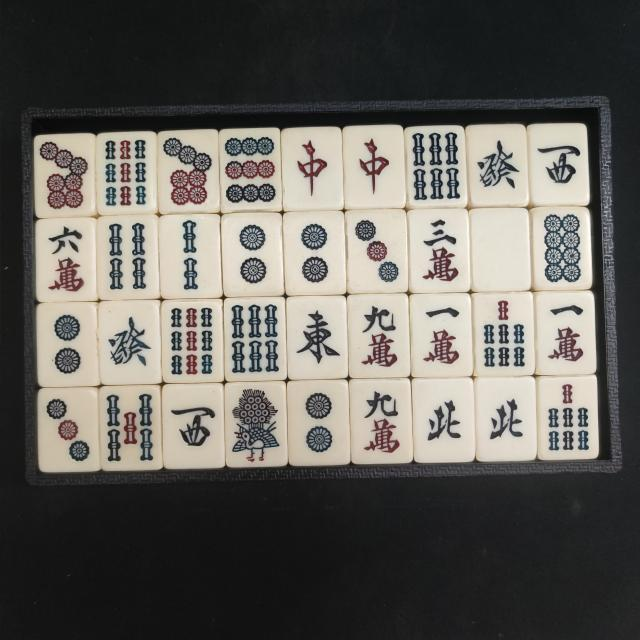hdg: (102, 307, 156, 378), (471, 130, 521, 198)
hdr: (287, 134, 337, 202), (349, 132, 399, 200)
hdw: (476, 216, 526, 282)
hwe: (292, 300, 344, 372)
hwn: (482, 382, 530, 456), (418, 386, 467, 454)
hww: (167, 391, 220, 462), (534, 130, 584, 197)
sb1: (228, 385, 285, 464)
sb2: (167, 218, 217, 294)
sb4: (103, 220, 151, 292)
sb5: (104, 390, 158, 466)
sb6: (228, 302, 282, 376), (409, 130, 464, 202)
sb7: (544, 380, 593, 456), (480, 298, 530, 371)
sb9: (166, 304, 219, 378), (100, 136, 150, 208)
sc1: (416, 296, 466, 372), (540, 298, 590, 368)
sc3: (415, 213, 462, 284)
sc6: (41, 222, 89, 294)
sc9: (358, 384, 408, 456), (356, 300, 404, 372)
sd2: (294, 386, 344, 458), (293, 387, 343, 459), (228, 218, 278, 288), (41, 310, 92, 378), (291, 218, 339, 290)
sd3: (350, 214, 403, 288), (44, 394, 94, 466)
sd7: (37, 138, 90, 212), (160, 134, 213, 208)
sd8: (540, 210, 586, 284)
sd9: (222, 134, 278, 206)
